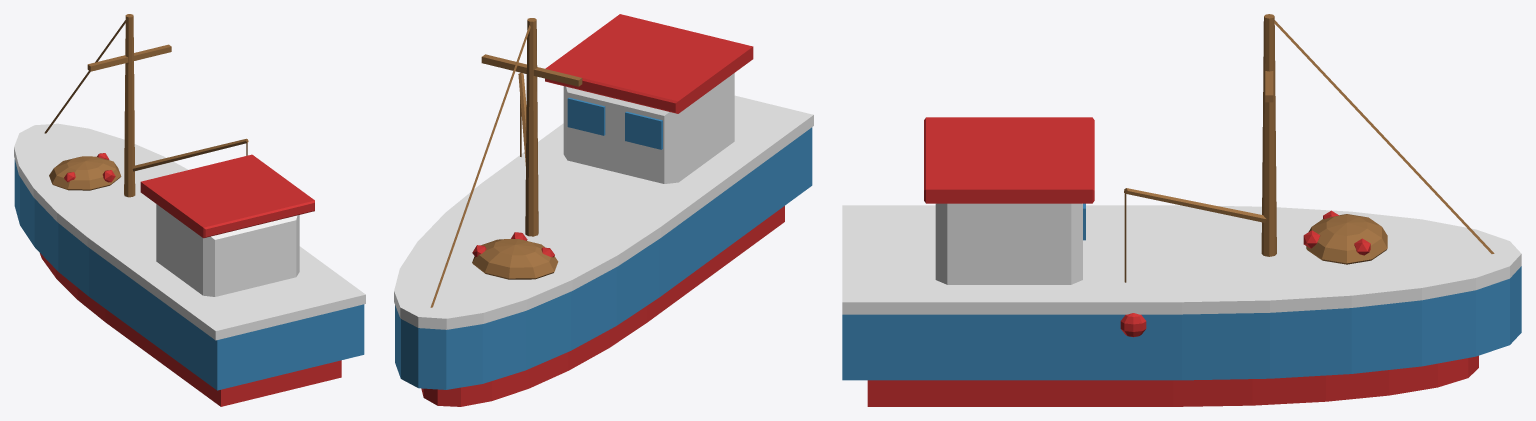
The model's file is FISHING_BOAT.glb.
3 renders of one model, left to right at view 1: azimuth 30°, elevation 25°; view 2: azimuth 150°, elevation 25°; view 3: azimuth 270°, elevation 25°, orthographic. The views are drawn at different scales.
Parts seen in each view (by area): view 1: PropWhite, PropBlue, PropRed, Wood; view 2: PropWhite, PropBlue, PropRed, Wood; view 3: PropWhite, PropBlue, PropRed, Wood.
Boxes of the visible parts, box(x1,y1,x2,y2) form: PropWhite: box(14, 123, 365, 340); PropBlue: box(14, 159, 364, 390); PropRed: box(40, 153, 341, 406); Wood: box(44, 14, 248, 197); PropWhite: box(394, 73, 813, 329); PropBlue: box(395, 97, 812, 389); PropRed: box(421, 14, 784, 406); Wood: box(430, 18, 582, 307); PropWhite: box(842, 203, 1521, 314); PropBlue: box(842, 203, 1521, 380); PropRed: box(867, 117, 1478, 406); Wood: box(1124, 14, 1494, 282).
Bounding box in the file's own units: 6.11 × 10.03 × 17.5.
